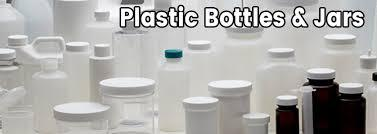Container for household chemicals: (7, 7, 377, 127)
